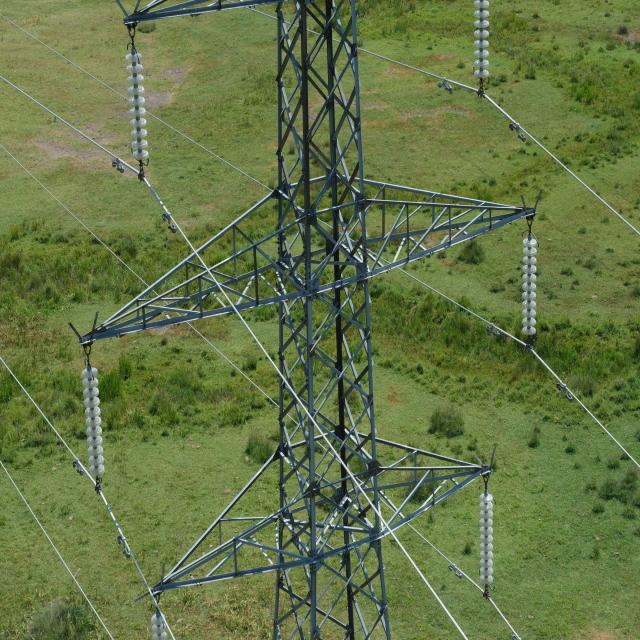direk: (268, 0, 392, 640)
